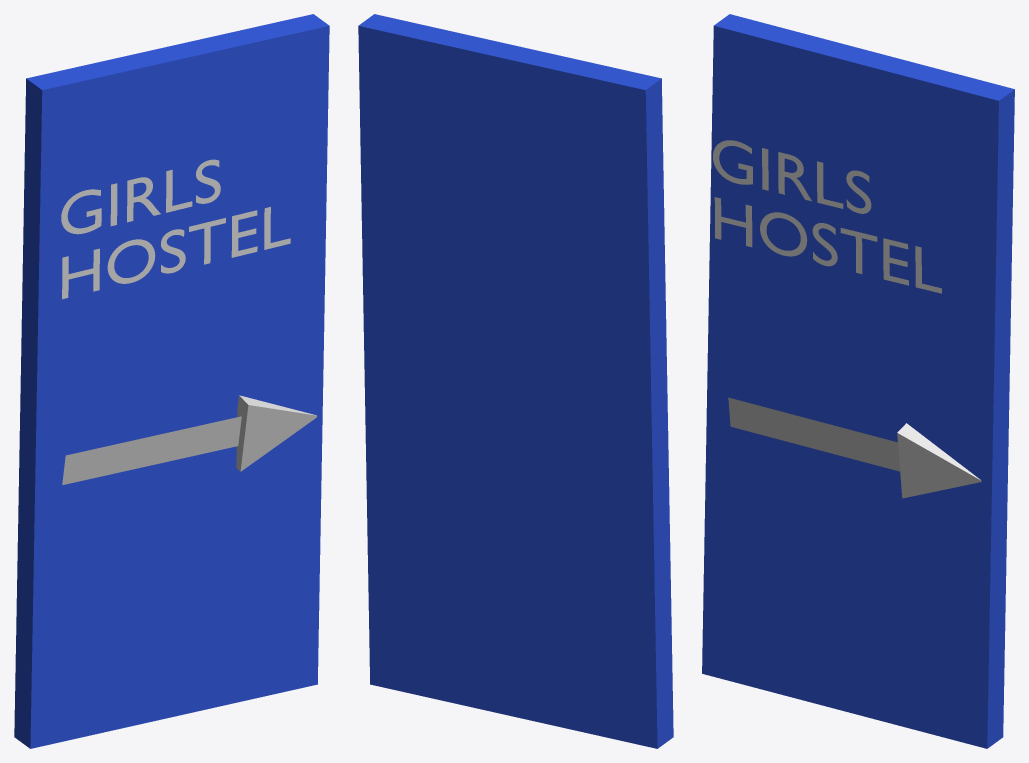
The model's file is girlsdir.glb.
3 views of the same model, side by side, from view 1: azimuth 30°, elevation 25°; view 2: azimuth 150°, elevation 25°; view 3: azimuth 330°, elevation 25° (orthographic).
Parts seen in each view (by area): view 1: Cube, Cube.001, Text; view 2: Cube; view 3: Cube, Cube.001, Text.
Part boxes in pixels (x1,y1,x2,y2): Cube: (14, 14, 329, 748); Cube.001: (62, 395, 316, 484); Text: (61, 159, 290, 299); Cube: (358, 14, 673, 748); Cube: (702, 14, 1014, 748); Cube.001: (728, 397, 981, 498); Text: (713, 140, 941, 293).
Size of the model in its own units: 2.08 by 4.4 by 0.3229.
